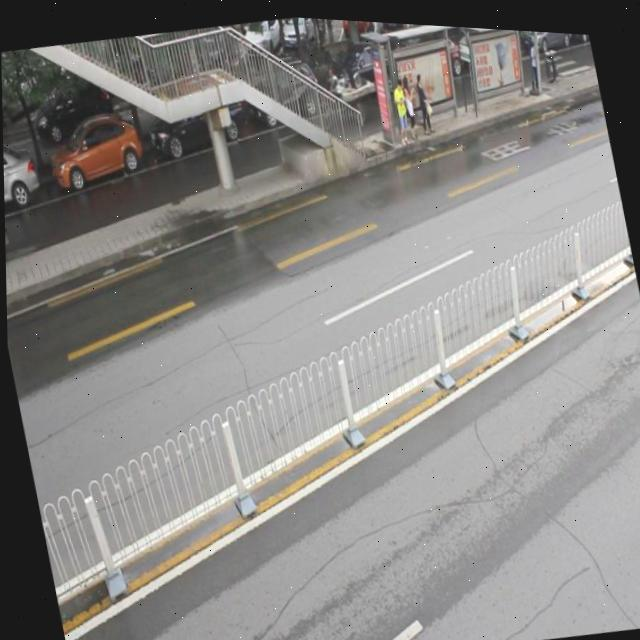car: (140, 66, 251, 160), (42, 106, 149, 197), (324, 29, 409, 105), (241, 51, 323, 129), (2, 140, 44, 220)
